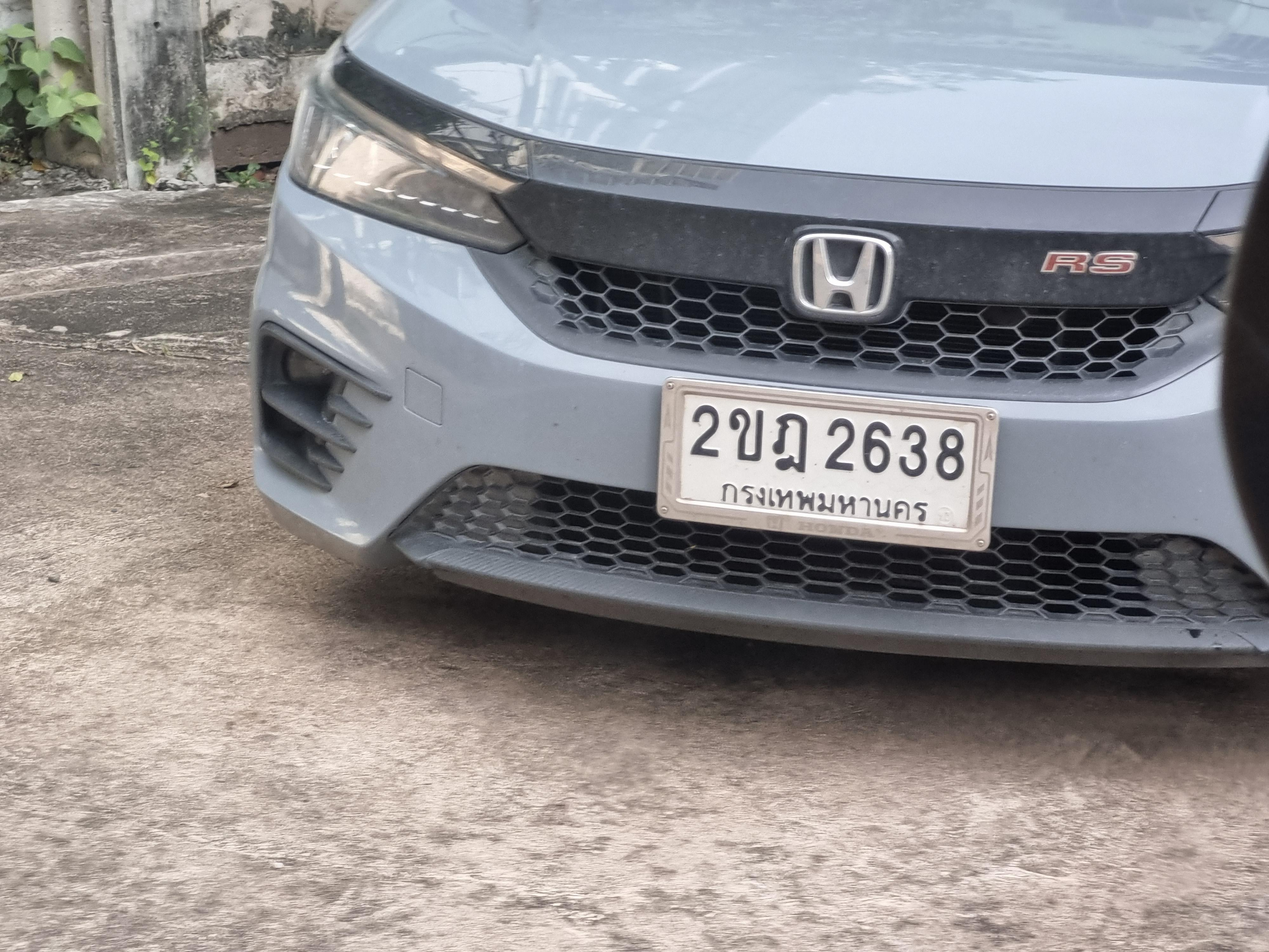license-plate: (656, 376, 999, 552)
